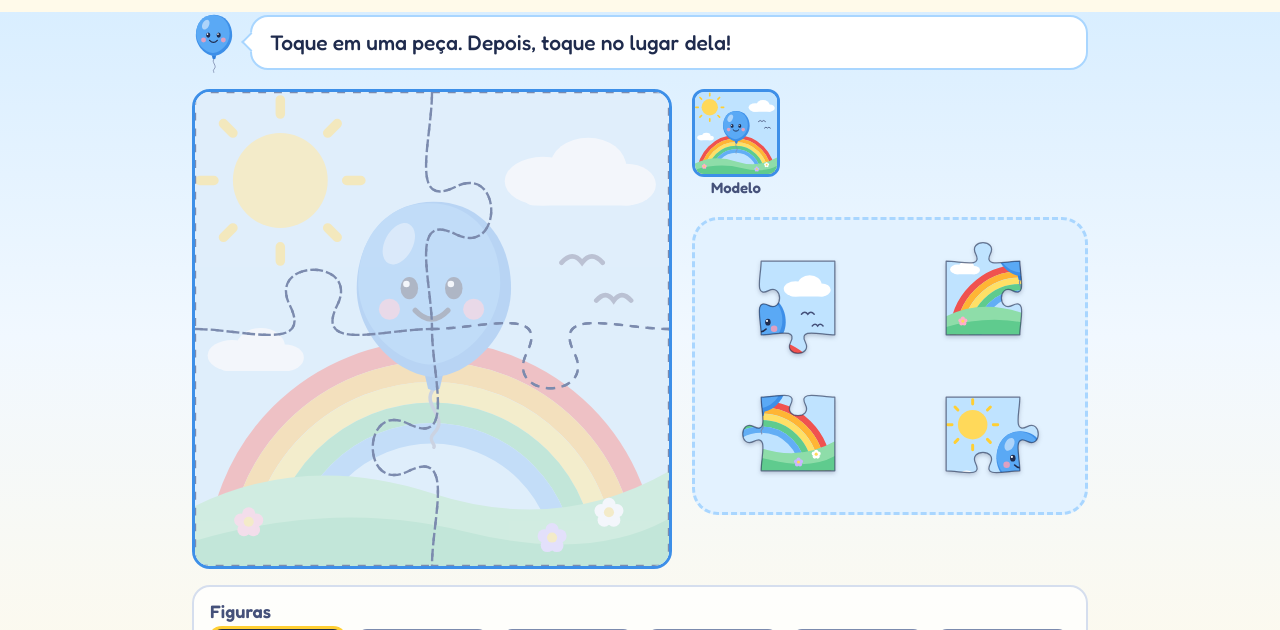
Test: Quebra-Cabeça do João › encaixa a peça no lugar certo com dois toques
Click the button named "Peça da ". click: {"x": 798, "y": 298}
box: [734,234,862,362]
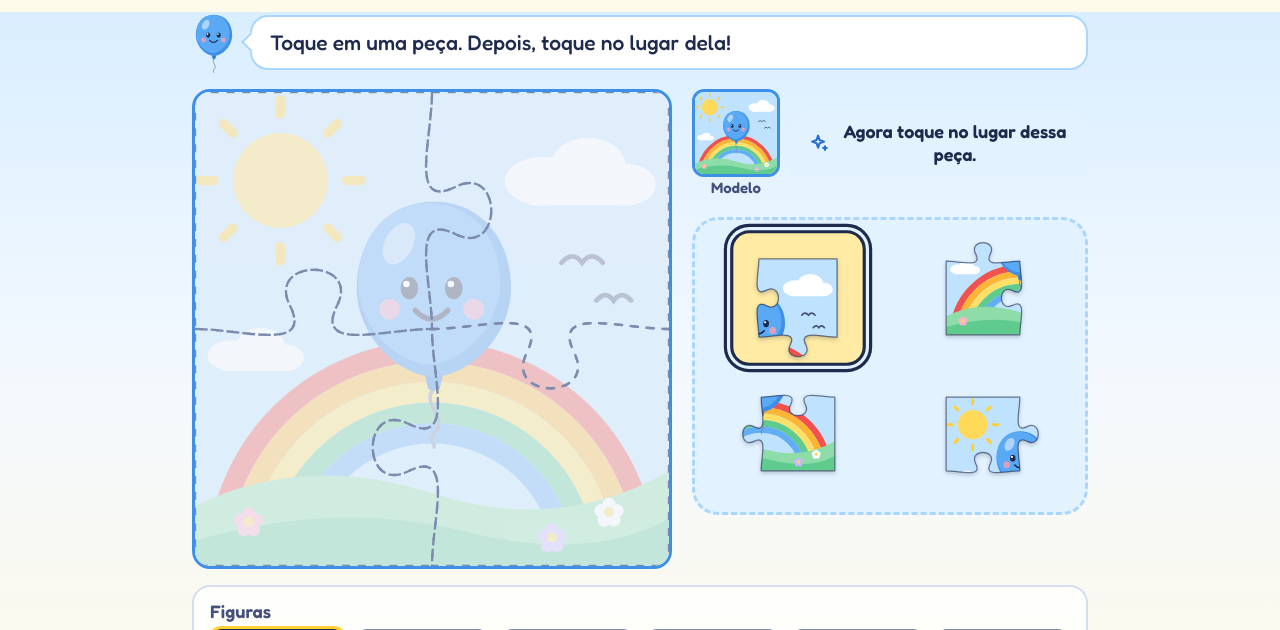
Check: the button named "Peça da " is pressed, box [730,230,865,365]
Click the button named "Lugar da linha 1, coluna 2". click: {"x": 550, "y": 210}
box: [432,92,669,328]
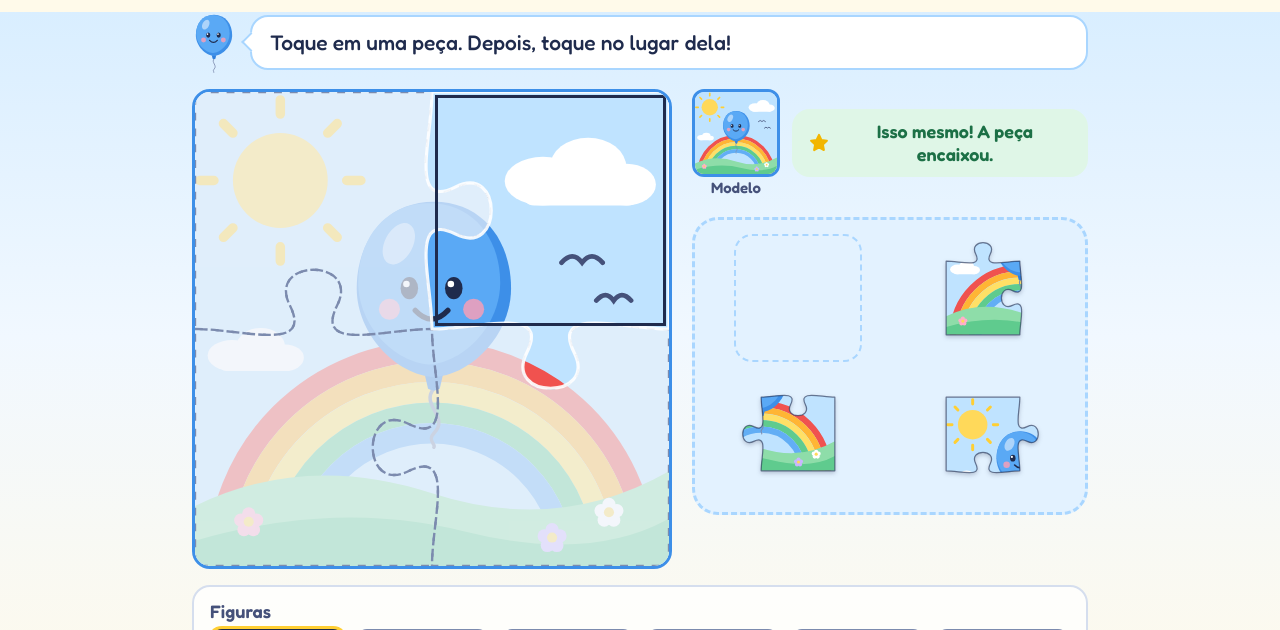
Check: the number of buttons named "Peça da " is 3, box [918,234,1046,362]; [734,370,862,498]; [918,370,1046,498]
Check: the message shows "encaixou", box [877,120,1033,164]
